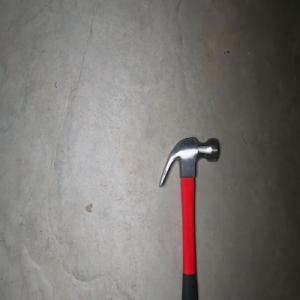Hammer: (157, 135, 219, 300)
